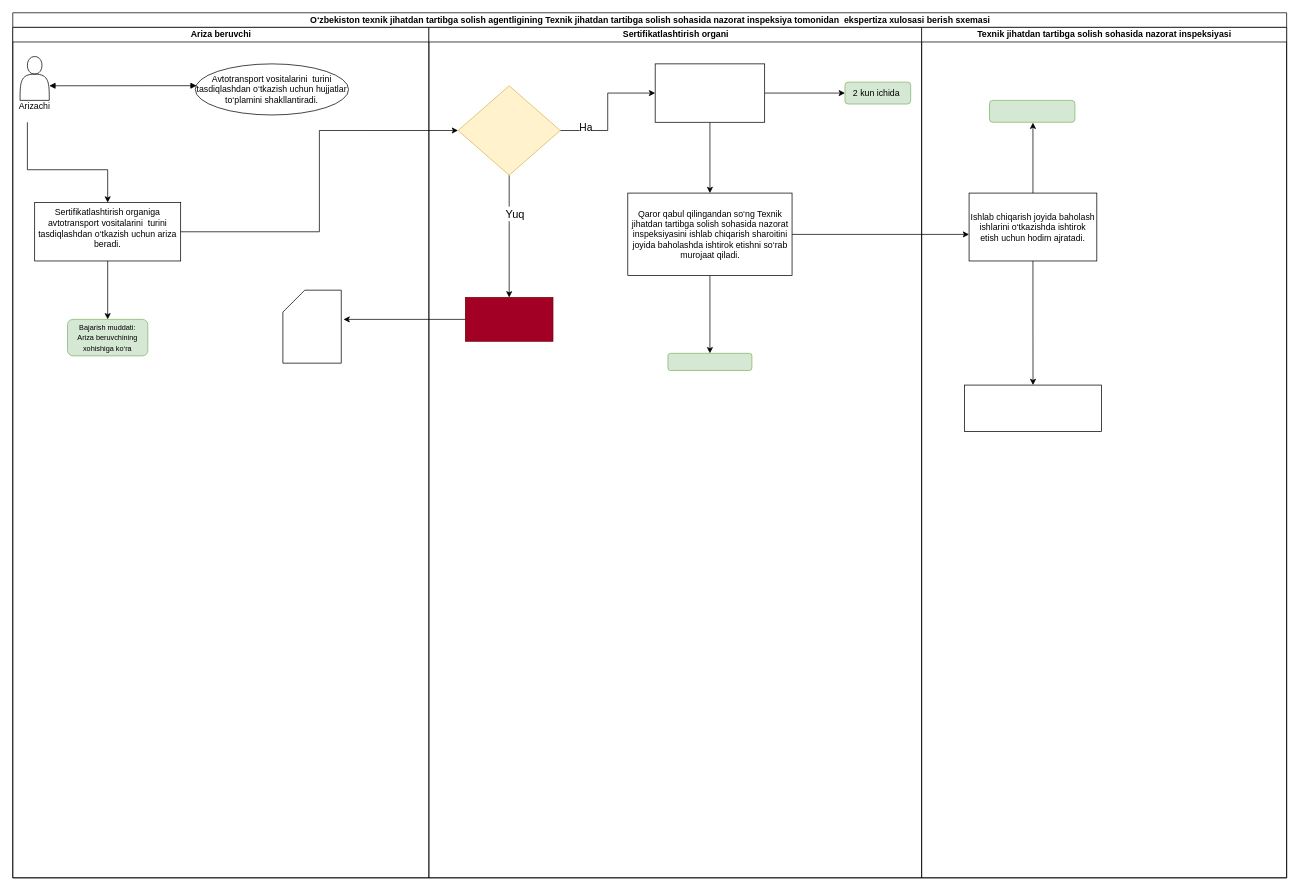
The diagram is 1299 pixels wide and 891 high, and some of its shapes have lost their labels. The shapes that lost their labels are listed below. From the top down, each one's centre as x and y in pixels, then its label:
[709,92]: Sertifikatlashtirish ishlarini amalga oshirishga qaror qabul qilinadi
[1032,111]: Belgilangan muddatlarda
[508,130]: Sertifikatlashtirish uchun yetarli ma’lumot bormi?
[509,319]: Arizachiga asoslantirilgan rad javobini berish
[709,361]: 1 kun ichida
